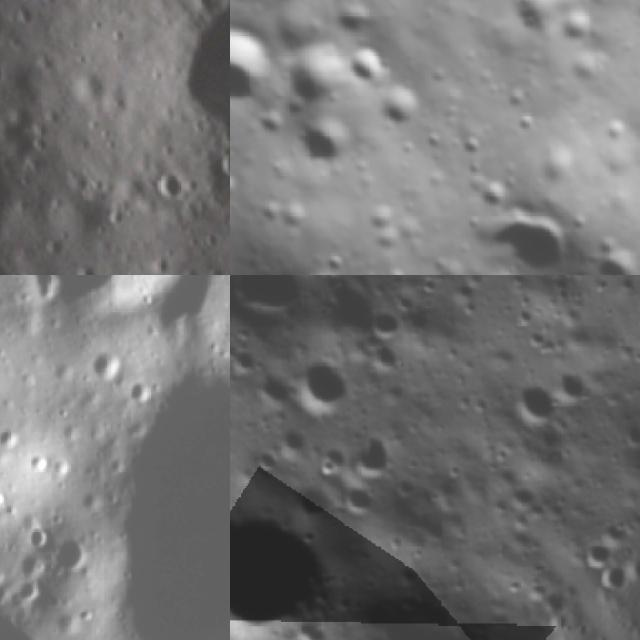crater: (230, 460, 379, 640), (0, 275, 186, 326), (481, 192, 586, 275), (283, 332, 372, 427), (264, 38, 349, 120), (230, 8, 284, 124), (230, 275, 327, 336), (343, 422, 419, 496), (0, 145, 41, 260), (292, 108, 359, 177), (369, 75, 432, 138), (138, 156, 200, 216), (503, 376, 562, 436), (339, 38, 394, 92), (46, 531, 100, 579), (326, 0, 380, 46), (579, 235, 640, 275), (552, 5, 599, 50), (472, 171, 516, 217), (338, 479, 380, 522), (203, 135, 230, 200), (86, 343, 122, 379), (288, 260, 356, 275), (470, 262, 528, 275), (153, 262, 210, 275)
